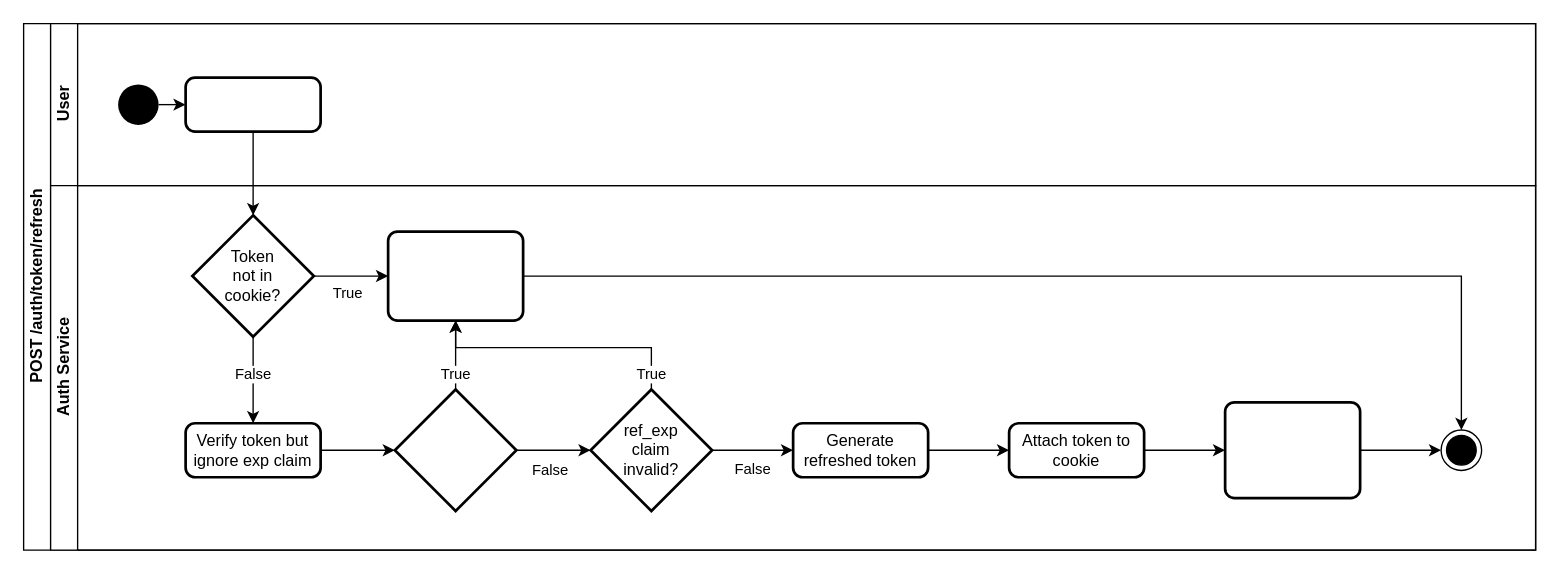
This 1559x574 diagram has some shape labels left out. The shapes that lost their labels are listed below. From the top down, each one's centre as x and y in pixels, then its label:
the point at 252,104: Send request
the point at 455,275: Send "Unauthenticated Exception" response
the point at 455,449: Token not verified?
the point at 1292,449: Send "200" response with generated token in body
